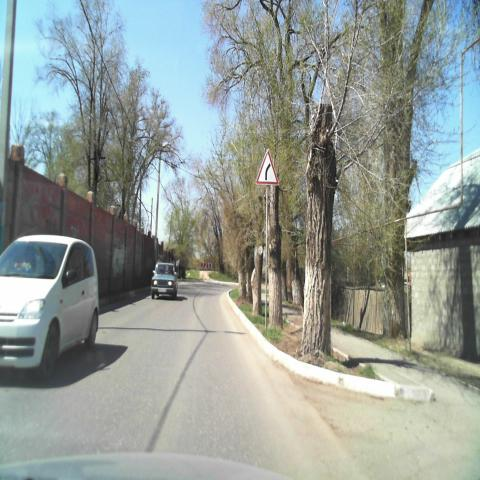1_11: (256, 147, 279, 186)
